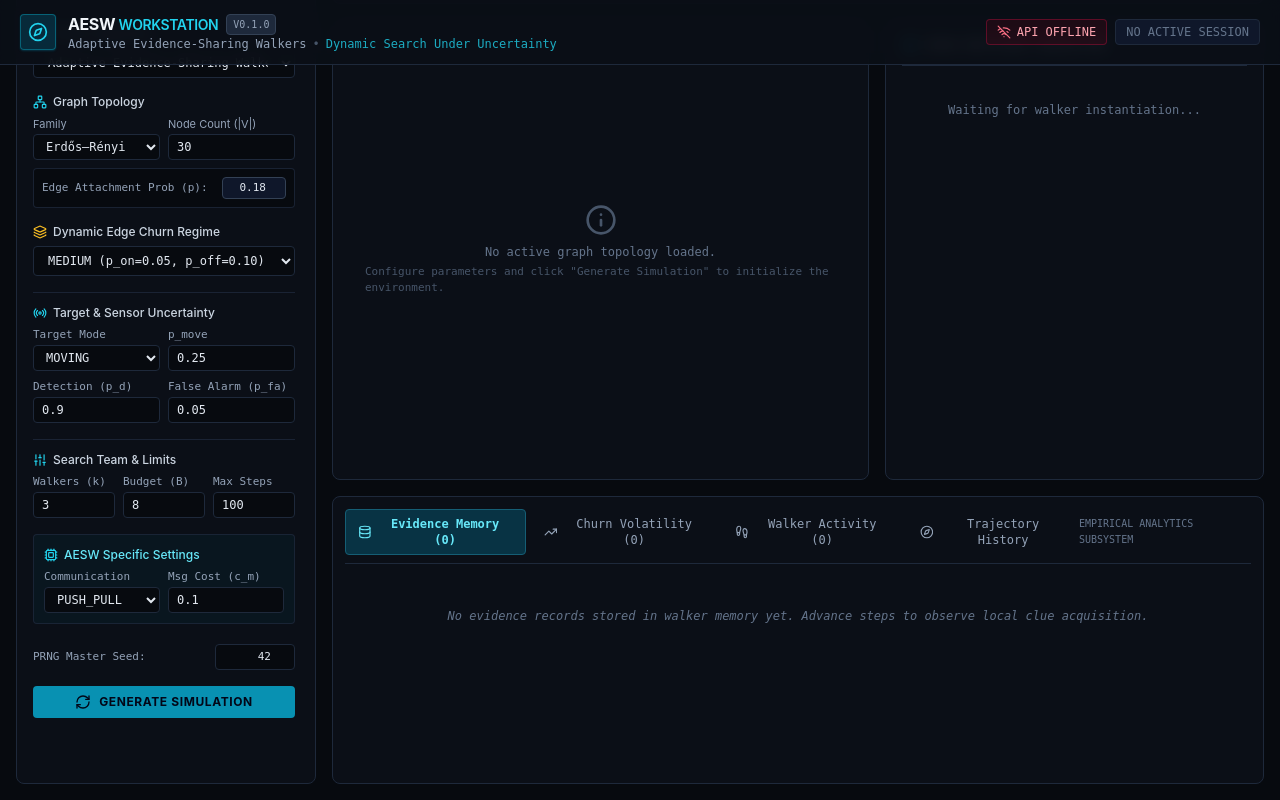
Test: AESW Research Workstation Frontend › 12. Auto-stepping stops automatically when simulation finishes (is_terminated: true)
(page scrolled)
Click the button "Generate Simulation" at (164, 702), box left=33, top=686, right=295, bottom=718
(page scrolled)
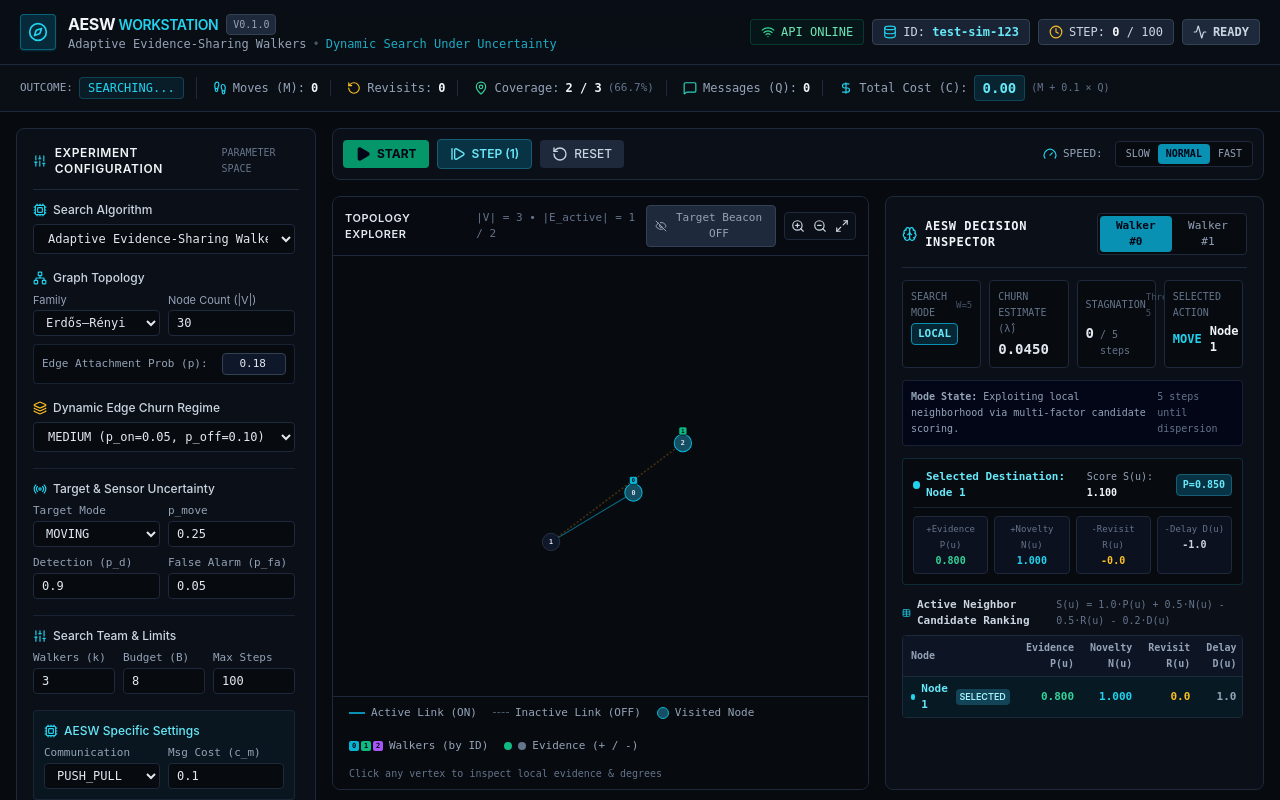
expect the text "test-sim-123" is shown: met, box left=932, top=25, right=1019, bottom=39
Note: Start auto stepping
Click the button "START" at (386, 154), box left=343, top=140, right=429, bottom=168
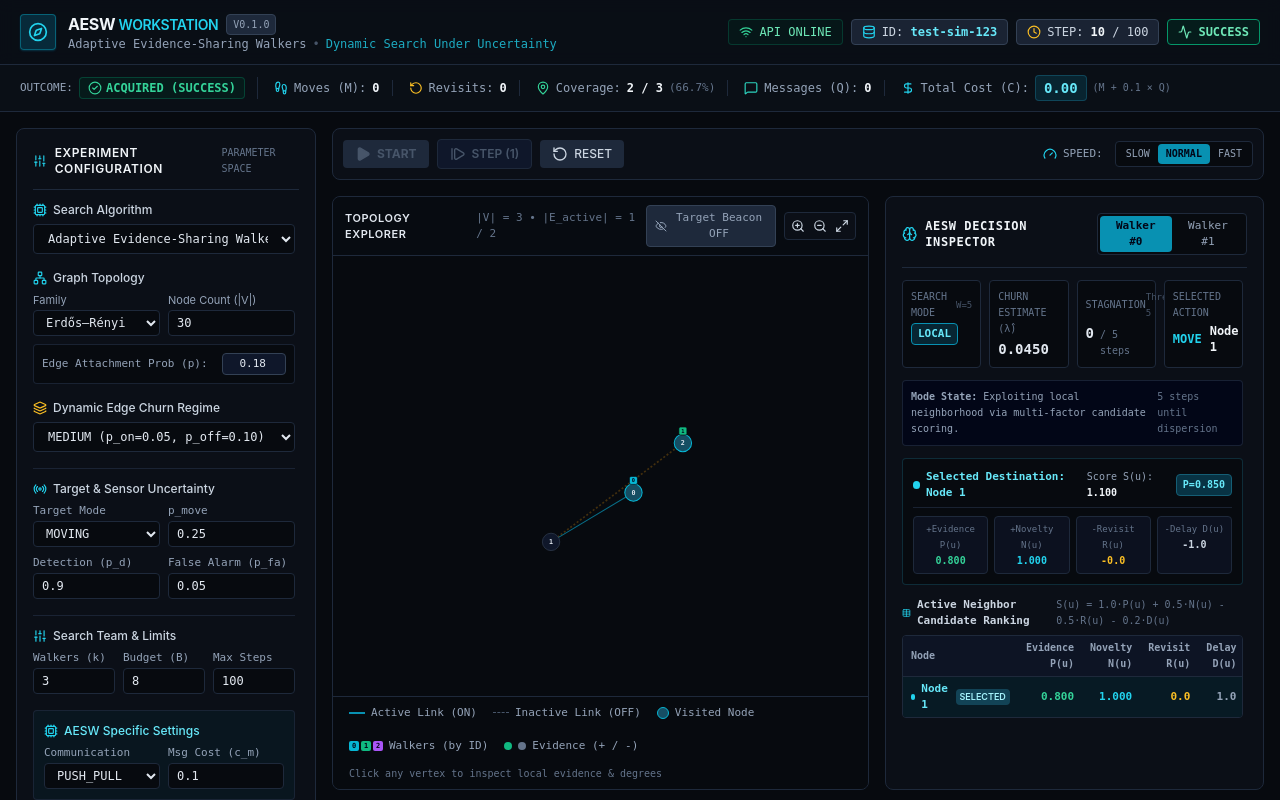
expect the text "ACQUIRED (SUCCESS)" is shown: met, box left=79, top=77, right=245, bottom=99
